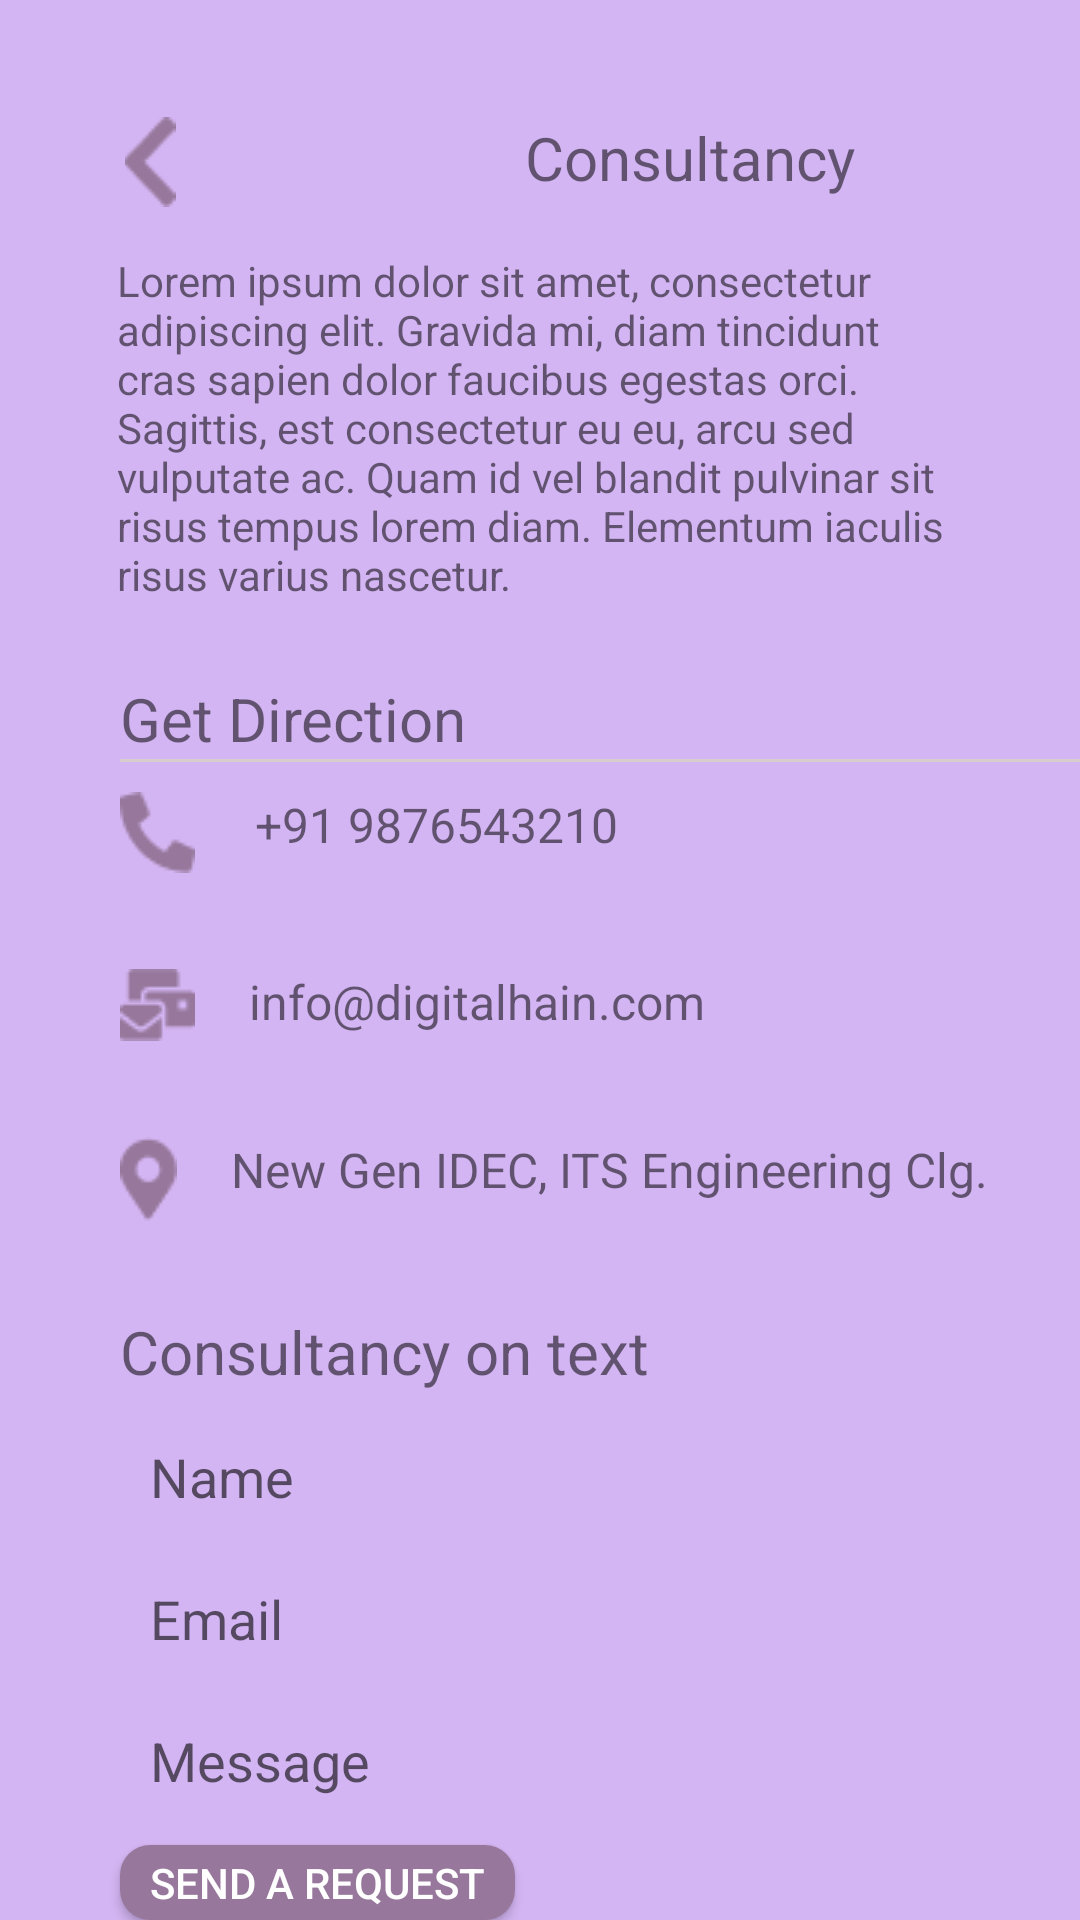

Icons on this 1080px x 1920px Android screen, each with the point to tap as (x,y):
arrow: (150,162)
email: (157,1005)
location: (148,1179)
phone: (157,832)
